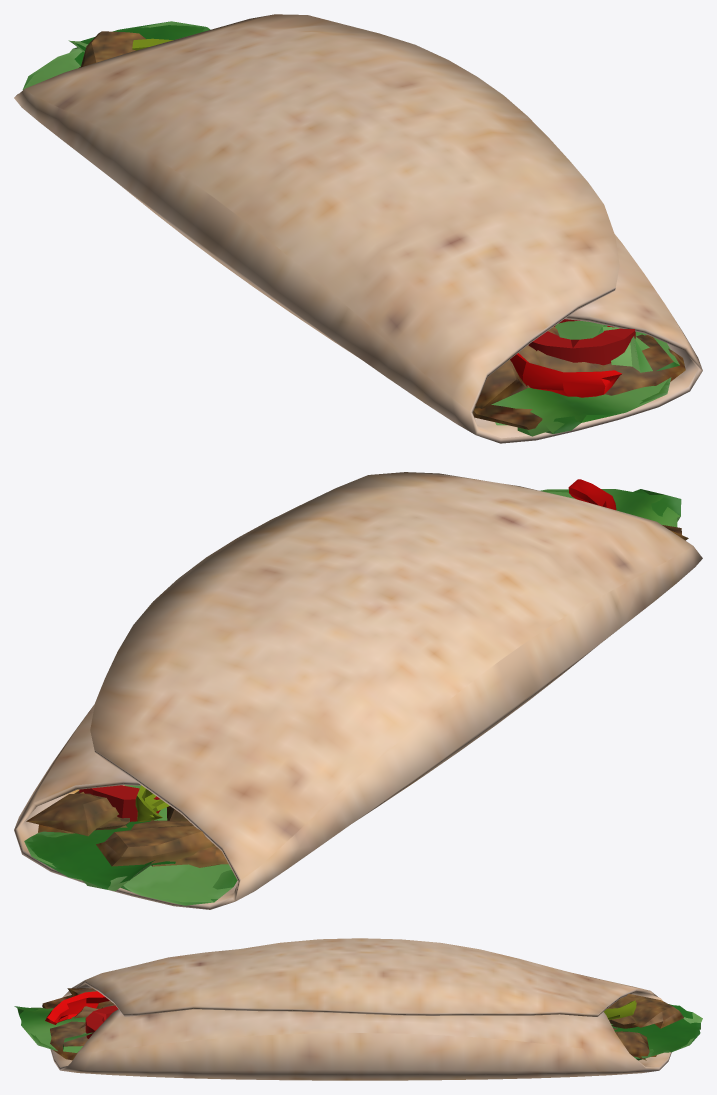
Rendered from kebab.fbx.
3 renders of one model, top to bottom at view 1: azimuth 30°, elevation 25°; view 2: azimuth 150°, elevation 25°; view 3: azimuth 270°, elevation 25°, orthographic. The views are drawn at different scales.
Visible parts, largest first — view 1: kebab; view 2: kebab; view 3: kebab.
Part boxes in pixels (left/top/right/bottom): kebab: left=14, top=14, right=702, bottom=443; kebab: left=14, top=472, right=702, bottom=909; kebab: left=14, top=938, right=702, bottom=1080.
Bounding box in the file's own units: 6.3 × 2.46 × 17.18.
